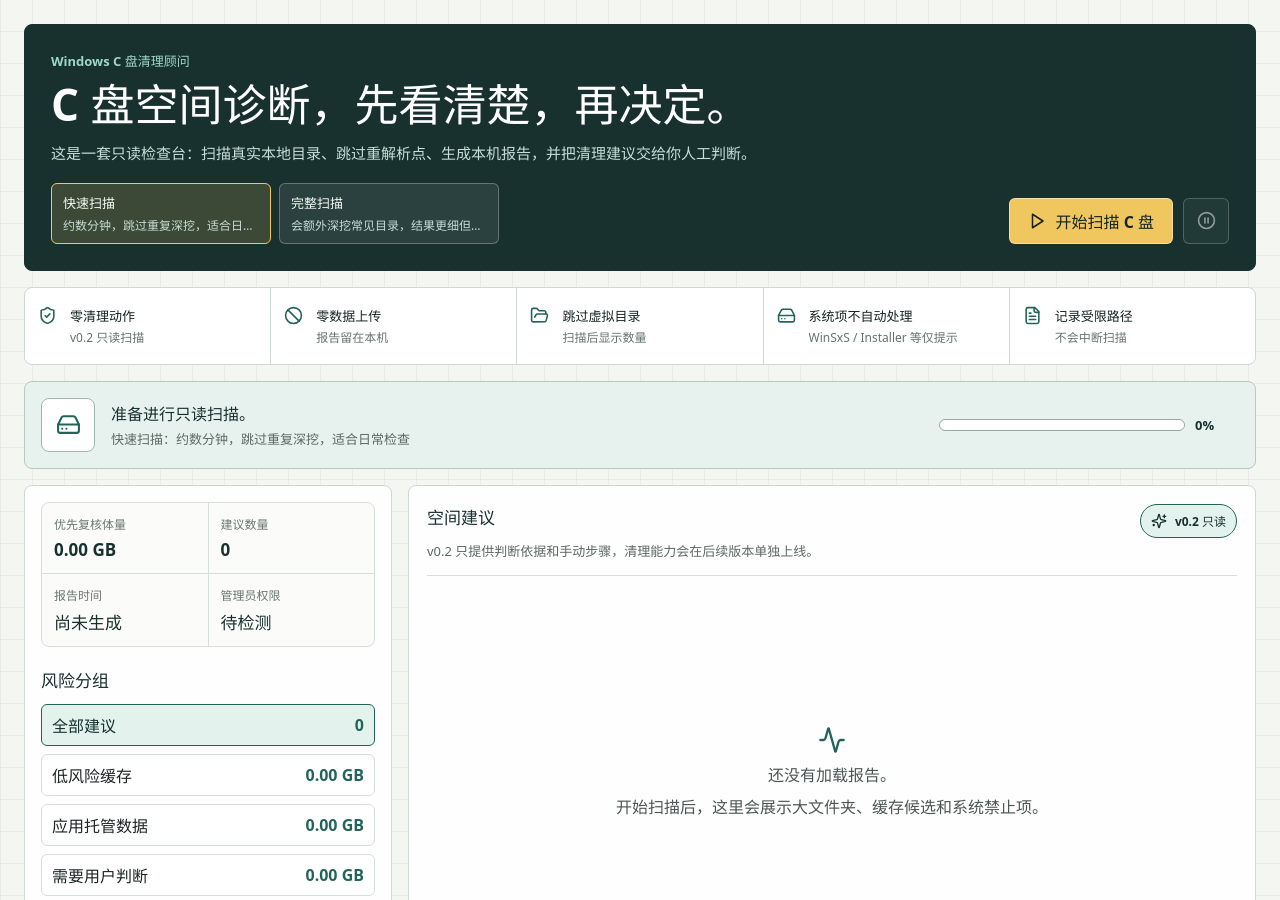
Scenario: App › loads the report immediately when a completed progress event arrives
The image size is (1280, 900).
Click the button "开始扫描 C 盘": (1091, 221) [1010,198,1173,244]
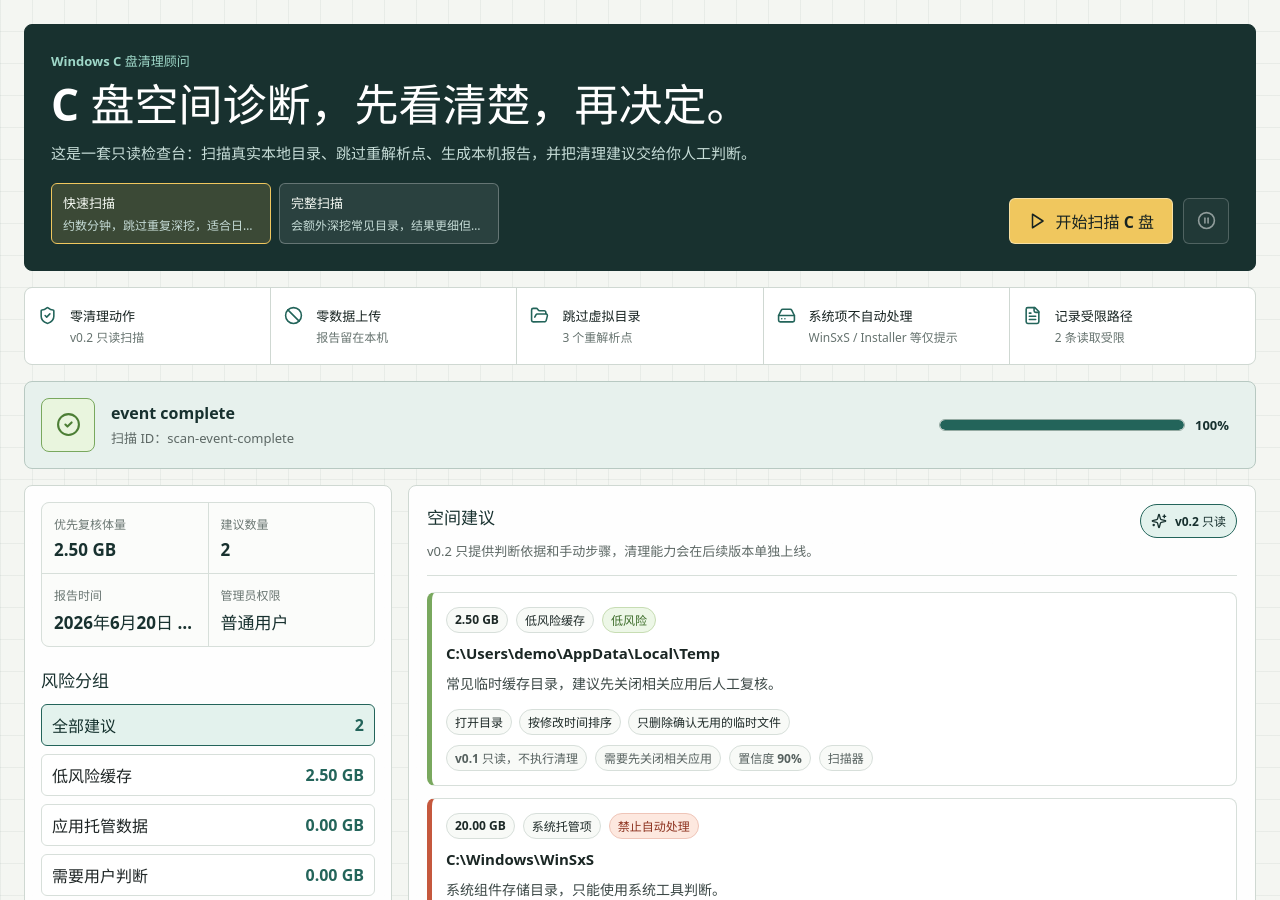
Expected: the heading "C:\\Users\\demo\\AppData\\Local\\Temp" is shown, [446,643,720,663]
